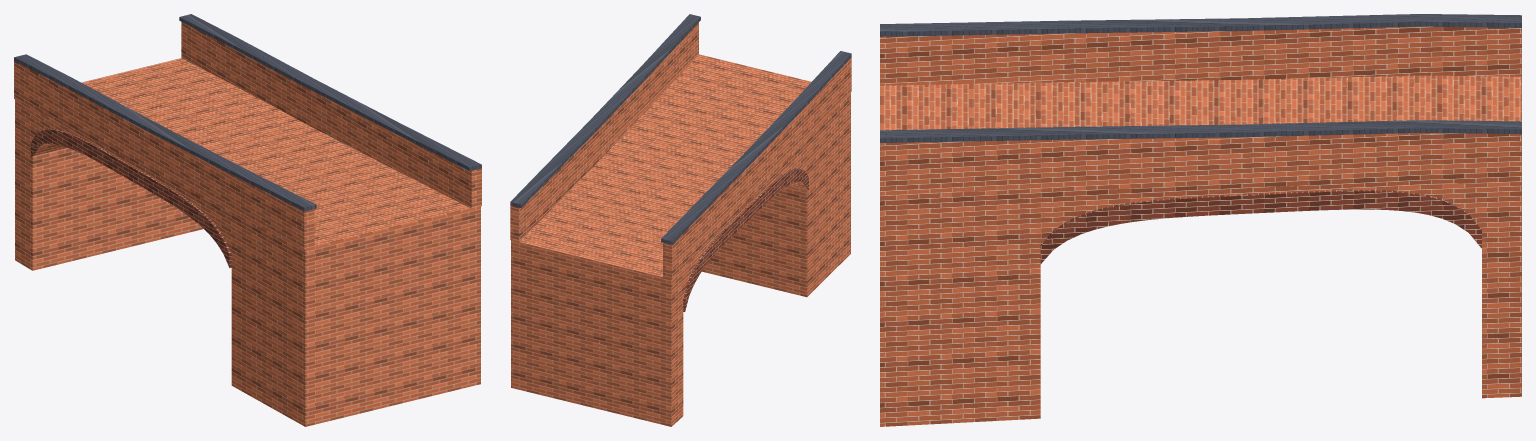
File: bridge-4.glb
3 renders of one model, left to right at view 1: azimuth 30°, elevation 25°; view 2: azimuth 150°, elevation 25°; view 3: azimuth 270°, elevation 25°, orthographic. The views are drawn at different scales.
Parts seen in each view (by area): view 1: Masonry, Parapet.001, ArchRing; view 2: Masonry, Parapet.001, ArchRing; view 3: Masonry, Parapet.001, ArchRing.
Part boxes in pixels (x1,y1,x2,y2): Masonry: [14, 22, 481, 426]; Parapet.001: [14, 14, 481, 211]; ArchRing: [30, 129, 231, 268]; Masonry: [510, 22, 851, 426]; Parapet.001: [510, 14, 851, 244]; ArchRing: [683, 168, 808, 311]; Masonry: [880, 26, 1521, 426]; Parapet.001: [880, 14, 1521, 142]; ArchRing: [1040, 190, 1481, 263].
Bounding box in the file's own units: 7.66 × 7.16 × 14.4.
Materials: 3 (3 with a texture image).
